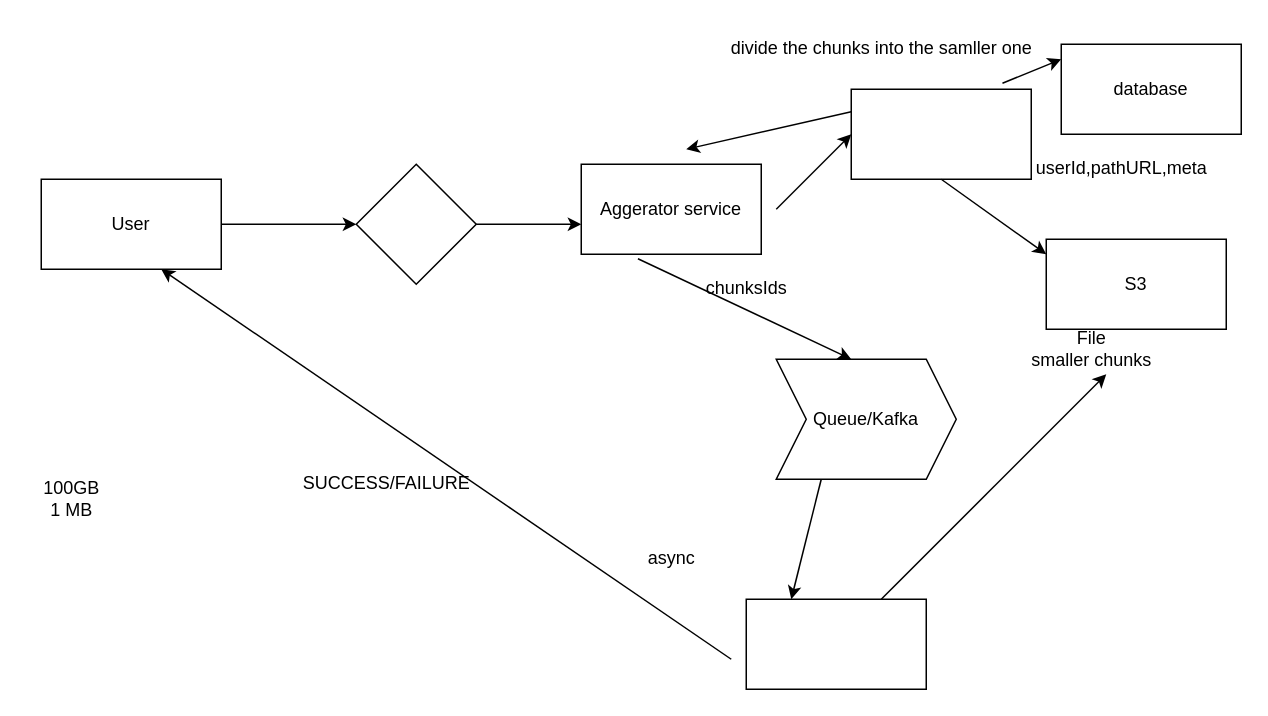
The diagram is 1268 pixels wide and 716 high, and some of its shapes have lost their labels. The shapes that lost their labels are listed below. From the top down, each one's centre as x and y in pixels, then its label:
At [940,133]: "chunk service".
At [415,223]: "LB".
At [835,643]: "processing service".
